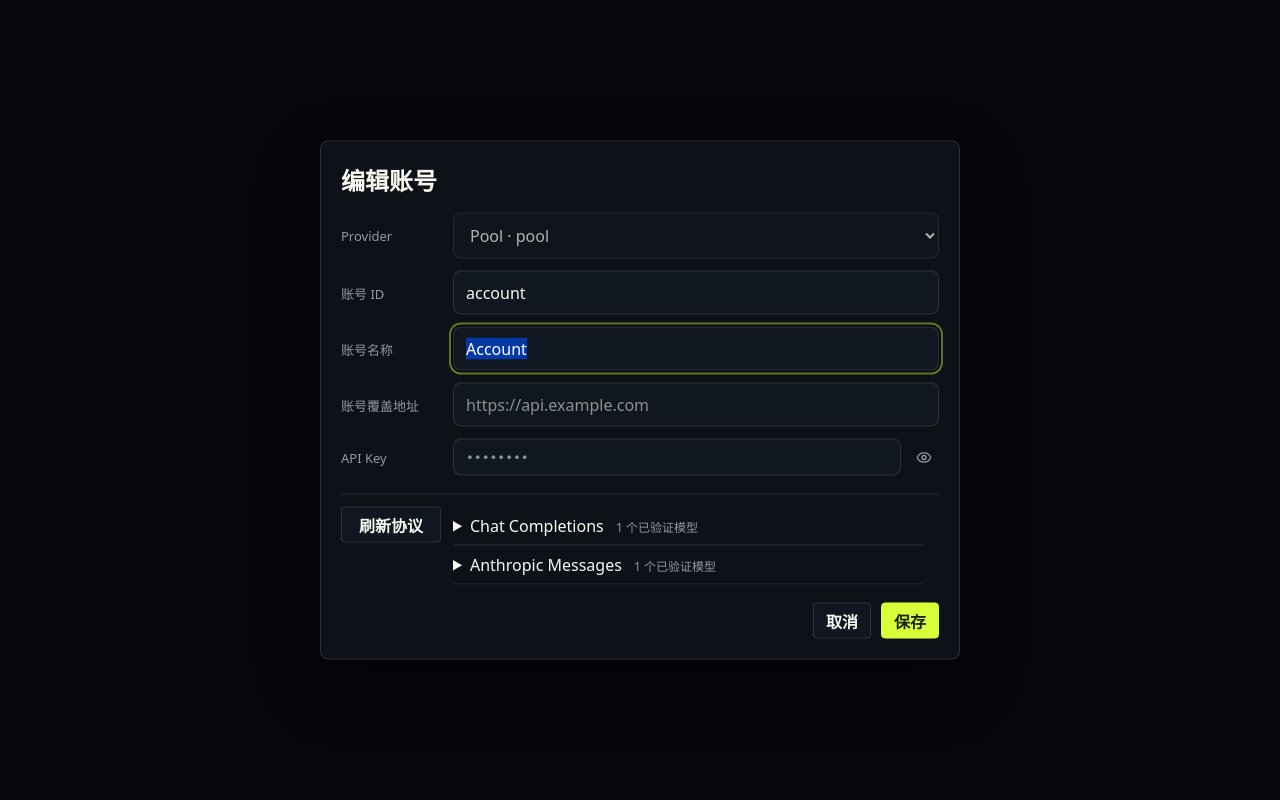
Test case: shows only each protocol's verified models in independent disclosures
Click the heading "Chat Completions 1 个已验证模型".
click(584, 526)  # box [470,514,698,536]
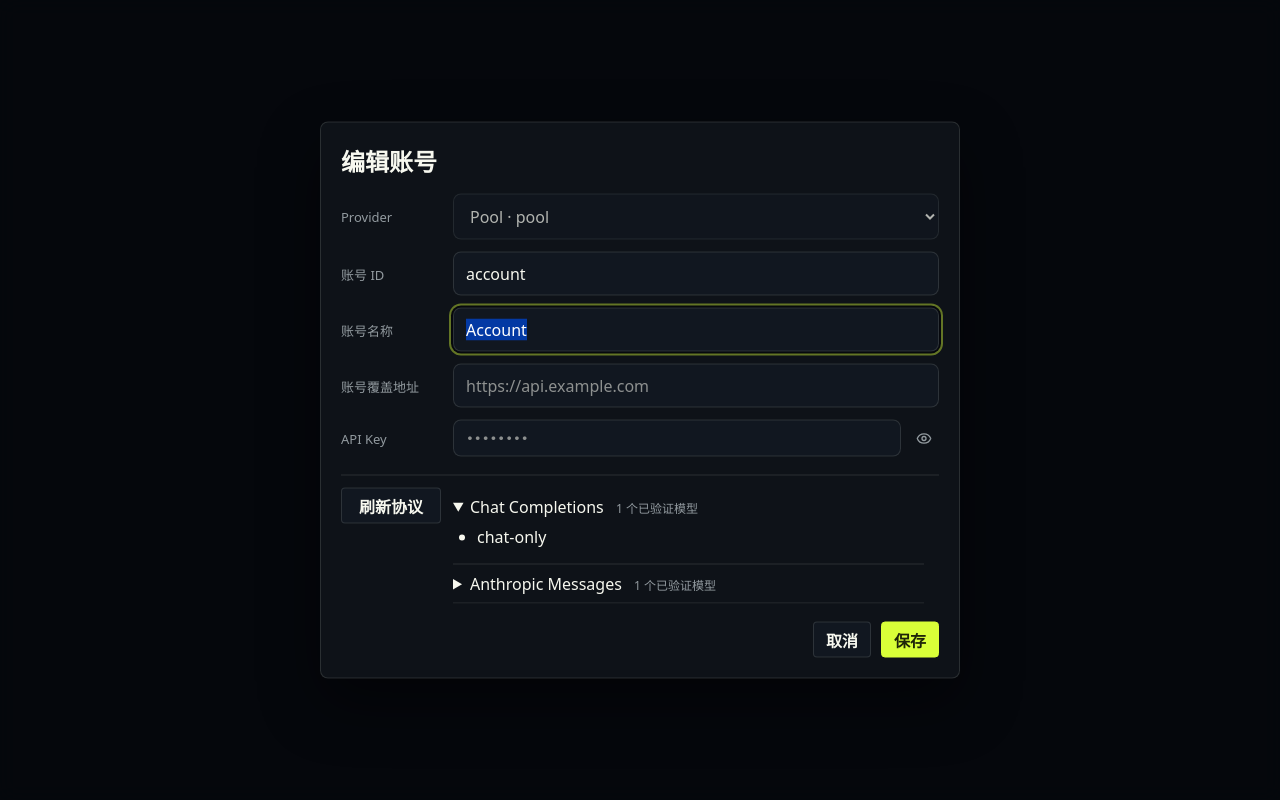
Now the list item "chat-only" is shown, box [477,526,546,548]
